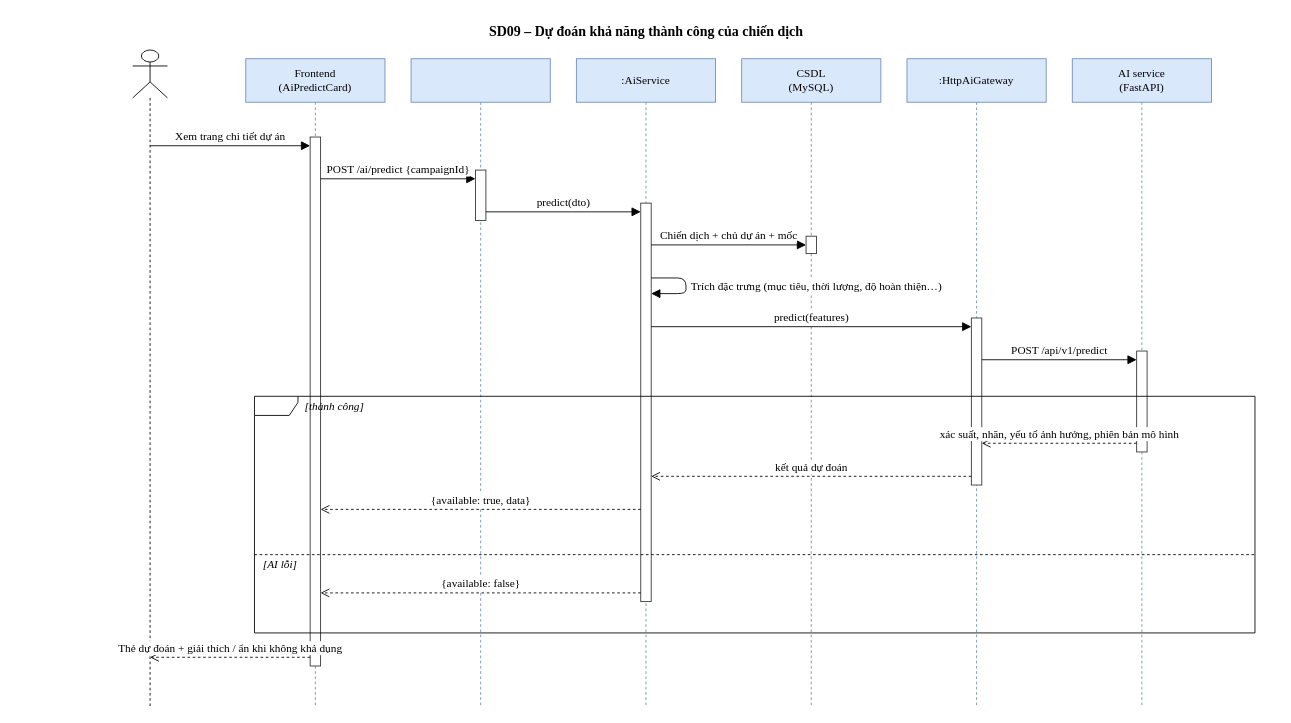
The diagram is 1291 pixels wide and 723 high, and some of its shapes have lost their labels. Each missing label, with the box of its shape:
:AiController: (410, 58, 550, 708)
alt: (254, 395, 1255, 633)
Người dùng: (132, 49, 167, 708)
